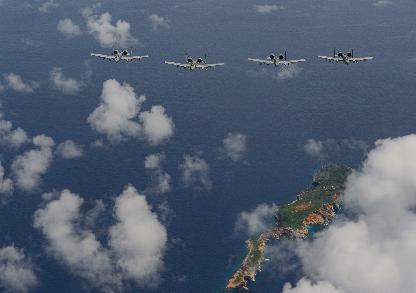A10: (164, 53, 224, 71), (247, 50, 305, 67), (90, 45, 148, 62), (317, 48, 373, 64)
